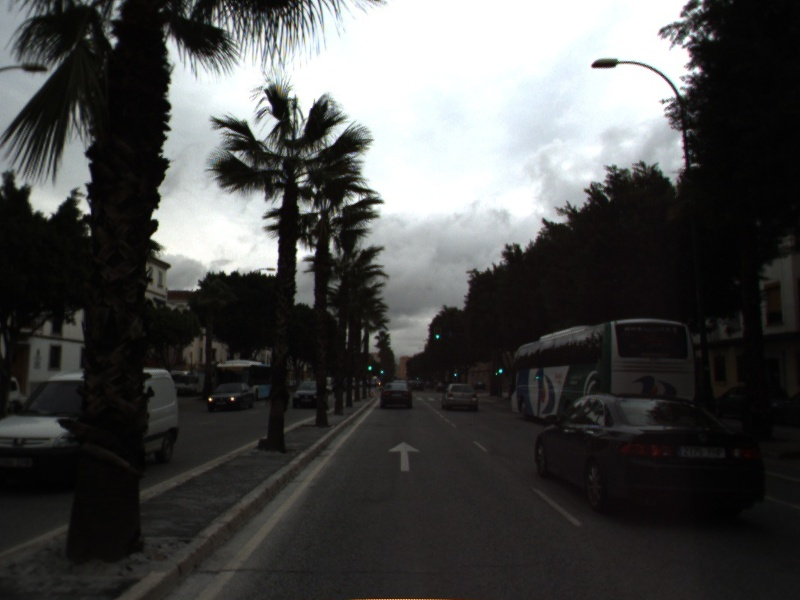STRAIGHT: (386, 440, 422, 473)
